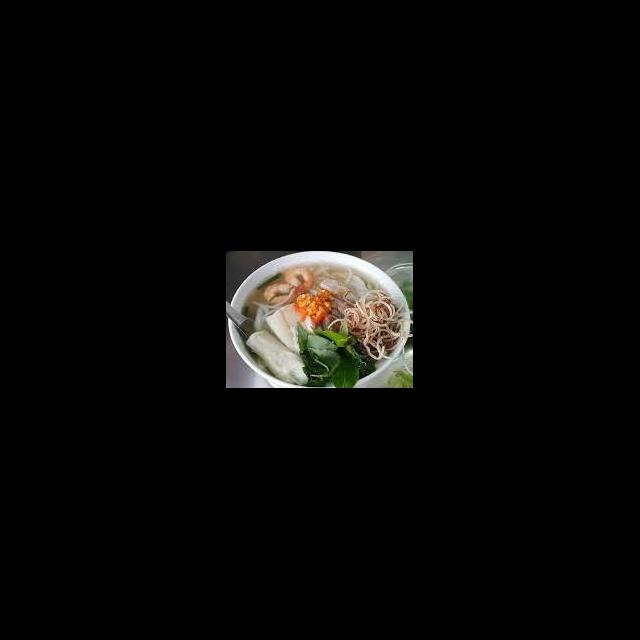bun: (312, 258, 388, 302)
bun ca: (232, 260, 410, 388)
ca: (243, 328, 310, 388), (262, 300, 320, 356)
tom: (282, 264, 316, 298), (262, 280, 300, 306)
